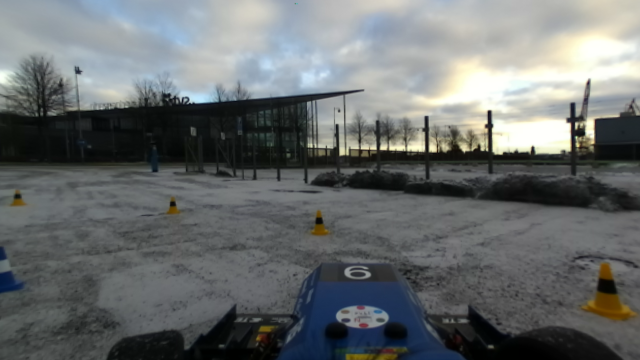yellow: (585, 259, 638, 323), (306, 208, 331, 237), (164, 197, 180, 217)
